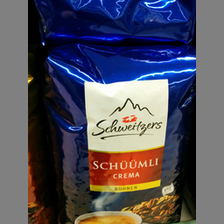chocolate: (41, 1, 195, 223)
